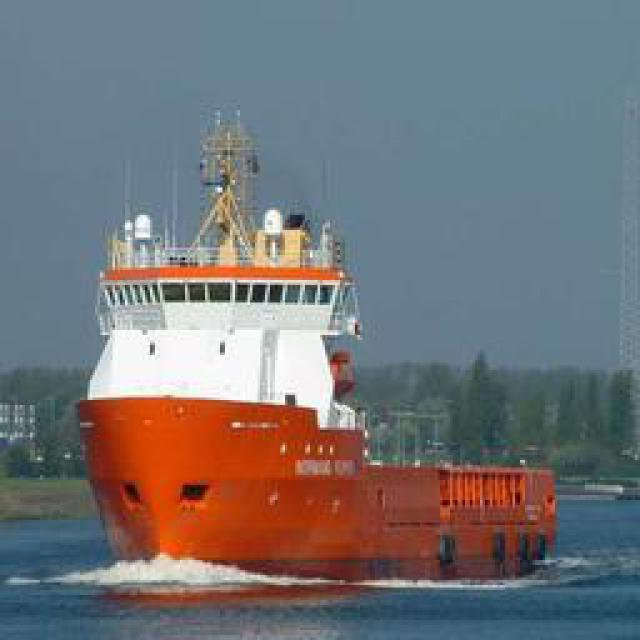Ship: (86, 101, 496, 581)
